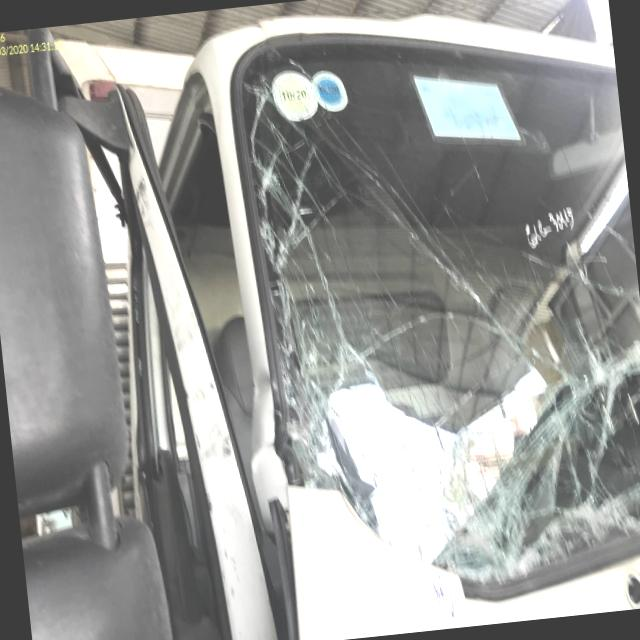Fissure: (303, 112, 541, 387), (240, 59, 357, 488), (338, 349, 432, 554), (350, 321, 481, 363), (452, 549, 552, 588)
